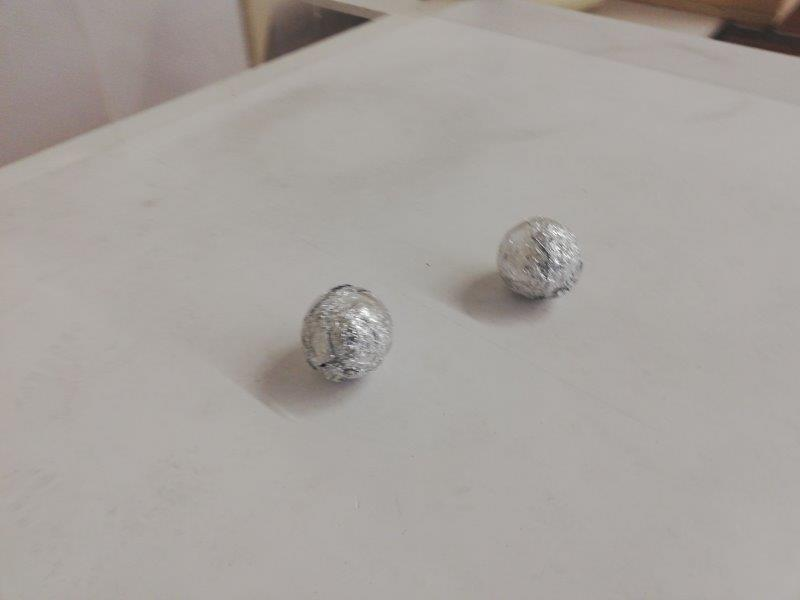bianca: (303, 284, 393, 382), (496, 215, 586, 300)
